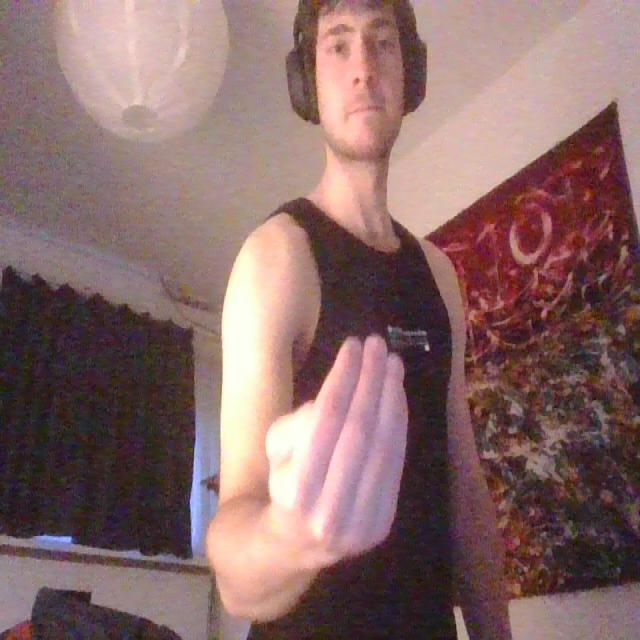forward: (262, 323, 414, 569)
